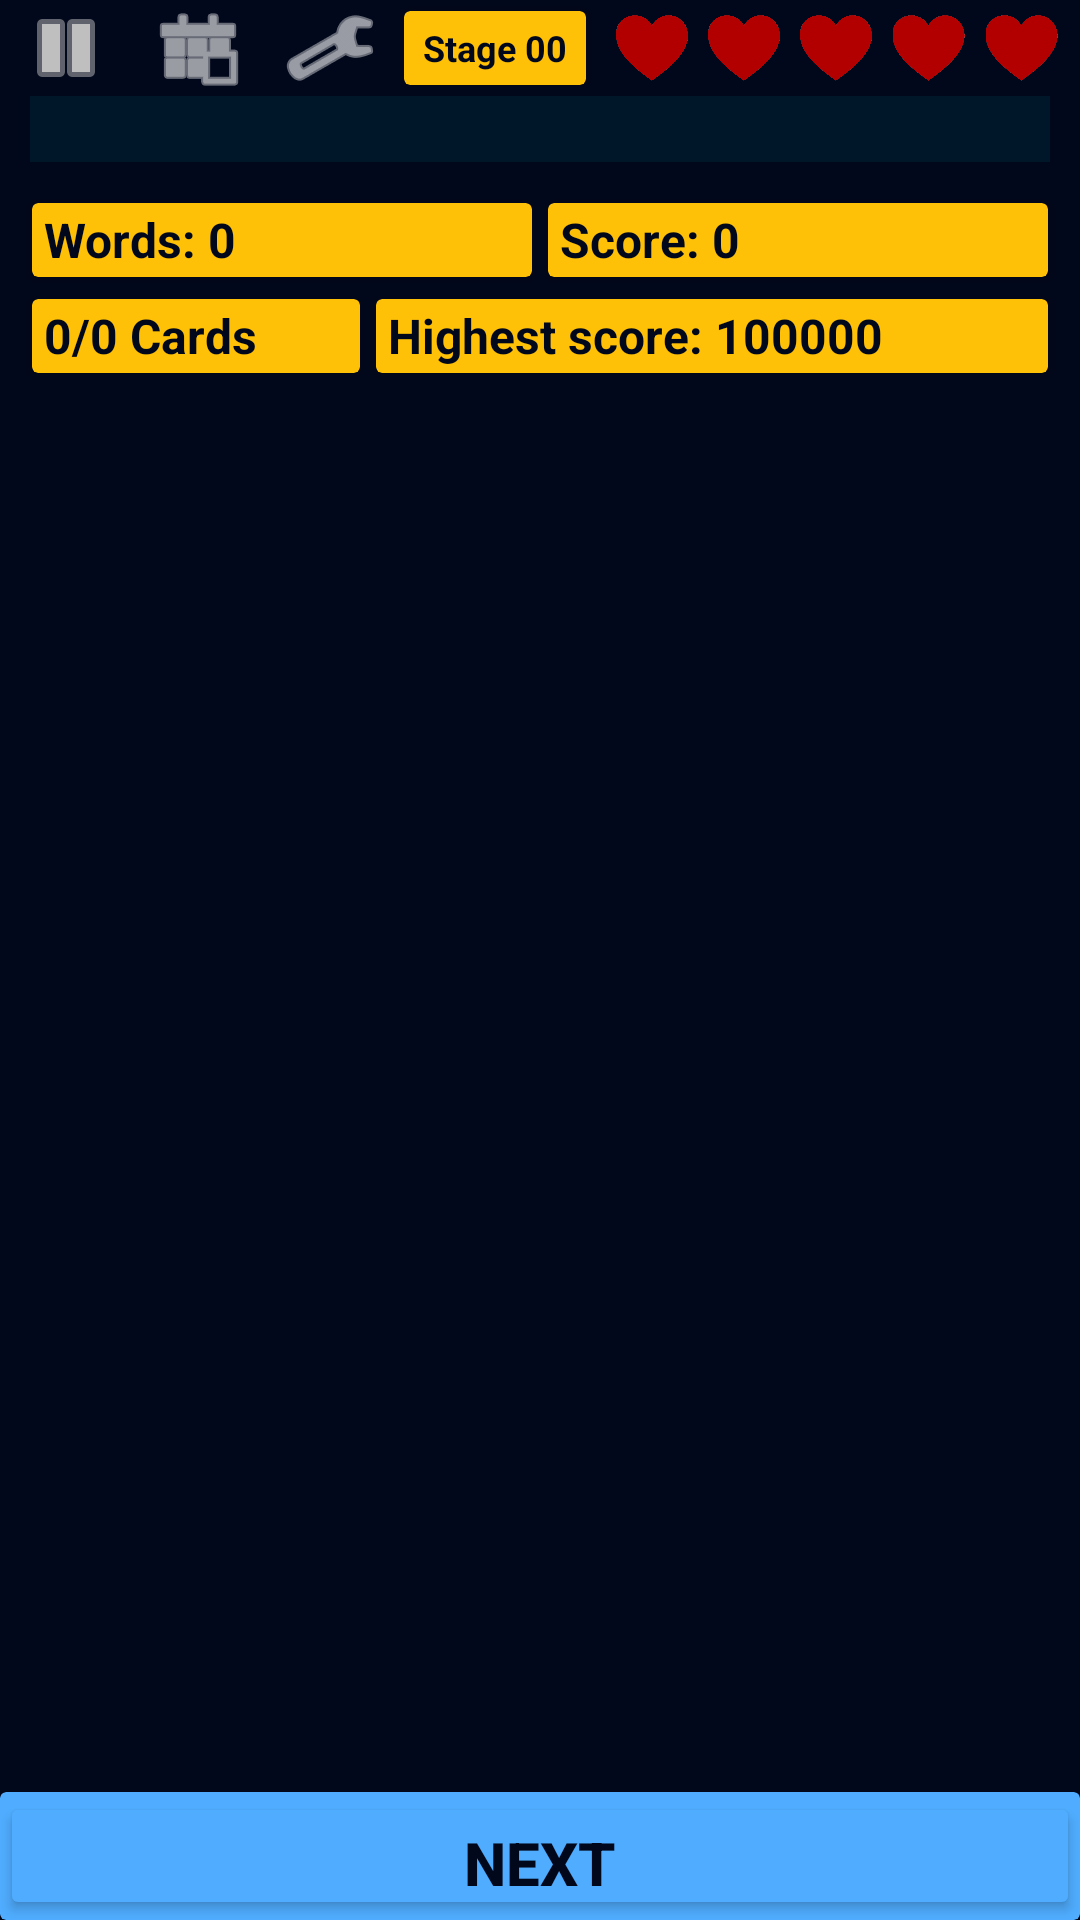

Point at icon controls on the screen. Image size 1080 x 1920, points as point (x, y).
heart: point (652, 48), point (744, 48), point (836, 48), point (929, 48), point (1022, 48)
manage: point (330, 48)
pause: point (66, 48)
today: point (199, 49)
